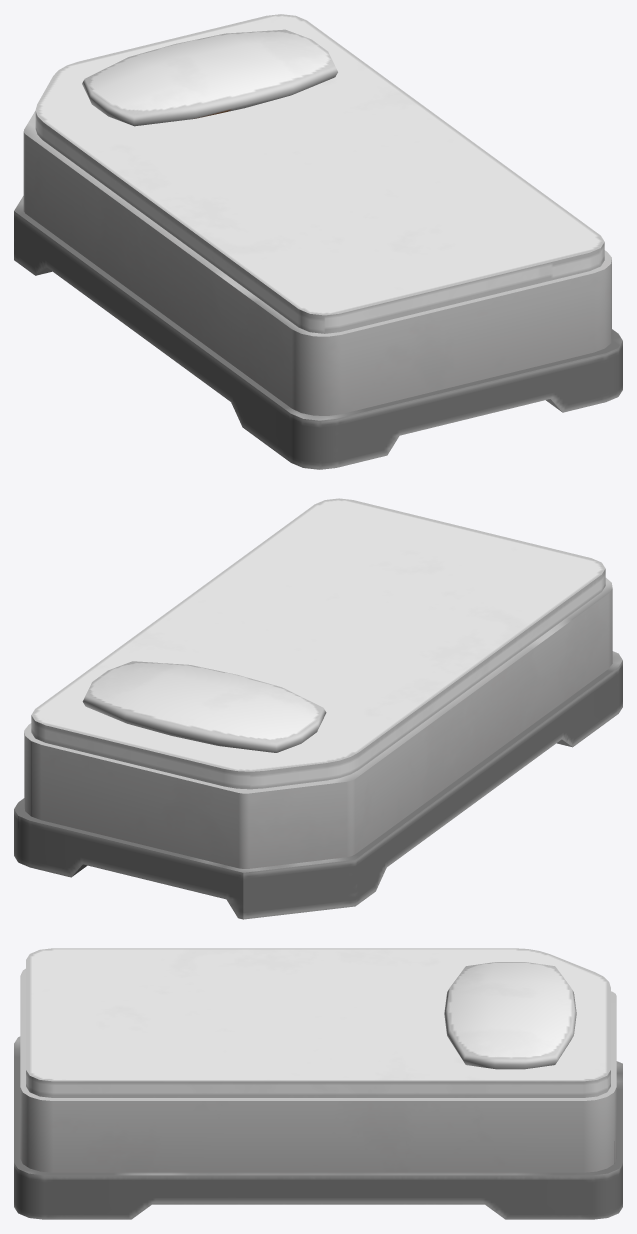
File: SM_prop_Laboratory_Bed.fbx
3 renders of one model, top to bottom at view 1: azimuth 30°, elevation 25°; view 2: azimuth 150°, elevation 25°; view 3: azimuth 270°, elevation 25°, orthographic. The views are drawn at different scales.
Parts seen in each view (by area): view 1: SM_prop_Laboratory_Bed_low; view 2: SM_prop_Laboratory_Bed_low; view 3: SM_prop_Laboratory_Bed_low.
Boxes of the visible parts, box(x1,y1,x2,y2) form: SM_prop_Laboratory_Bed_low: box(14, 14, 622, 469); SM_prop_Laboratory_Bed_low: box(14, 498, 622, 919); SM_prop_Laboratory_Bed_low: box(14, 948, 622, 1219).
Size of the model in its own units: 108 by 52.6 by 192.
Materials: 1 (1 with a texture image).
